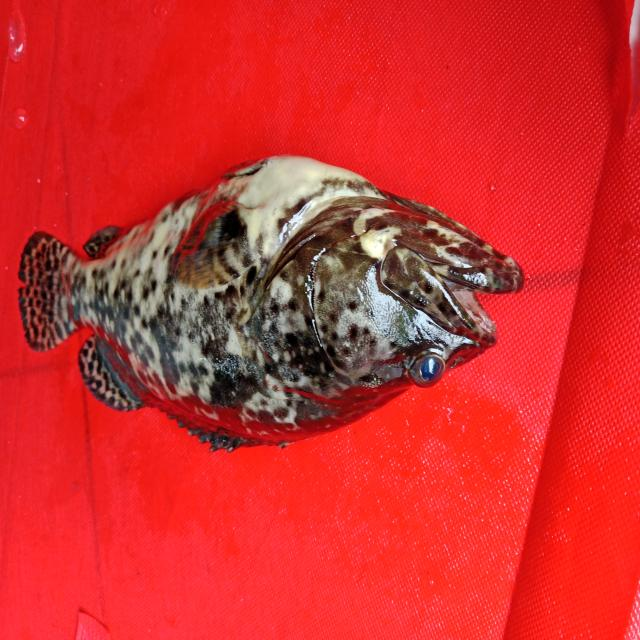ikan: (16, 128, 546, 466)
